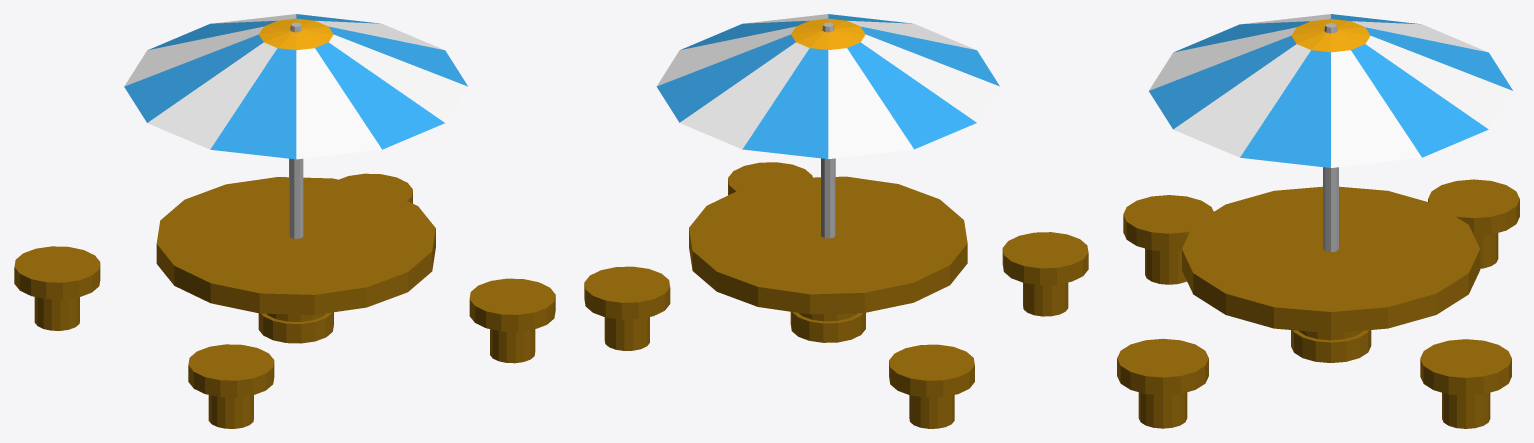
File: mesaRedonda.fbx
The picture shows the model from 3 angles, left to right: view 1: azimuth 30°, elevation 25°; view 2: azimuth 150°, elevation 25°; view 3: azimuth 270°, elevation 25°; orthographic projection. The views are drawn at different scales.
Visible parts, largest first — view 1: mesaRedonda; view 2: mesaRedonda; view 3: mesaRedonda.
Part boxes in pixels (x1,y1,x2,y2): mesaRedonda: [14, 14, 555, 428]; mesaRedonda: [584, 14, 1088, 428]; mesaRedonda: [1117, 14, 1519, 428].
Bounding box in the file's own units: 268 × 203 × 230.
